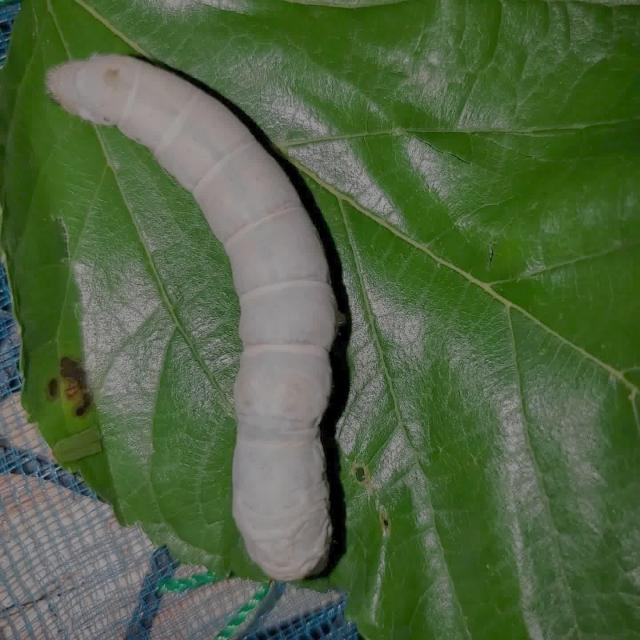Healthy: (37, 47, 362, 583)
